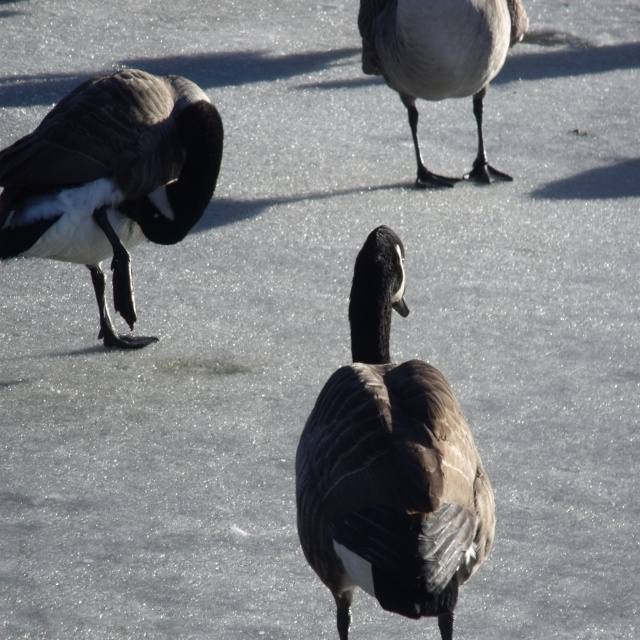Duck: (287, 205, 509, 635), (2, 68, 228, 353), (362, 0, 532, 187)
